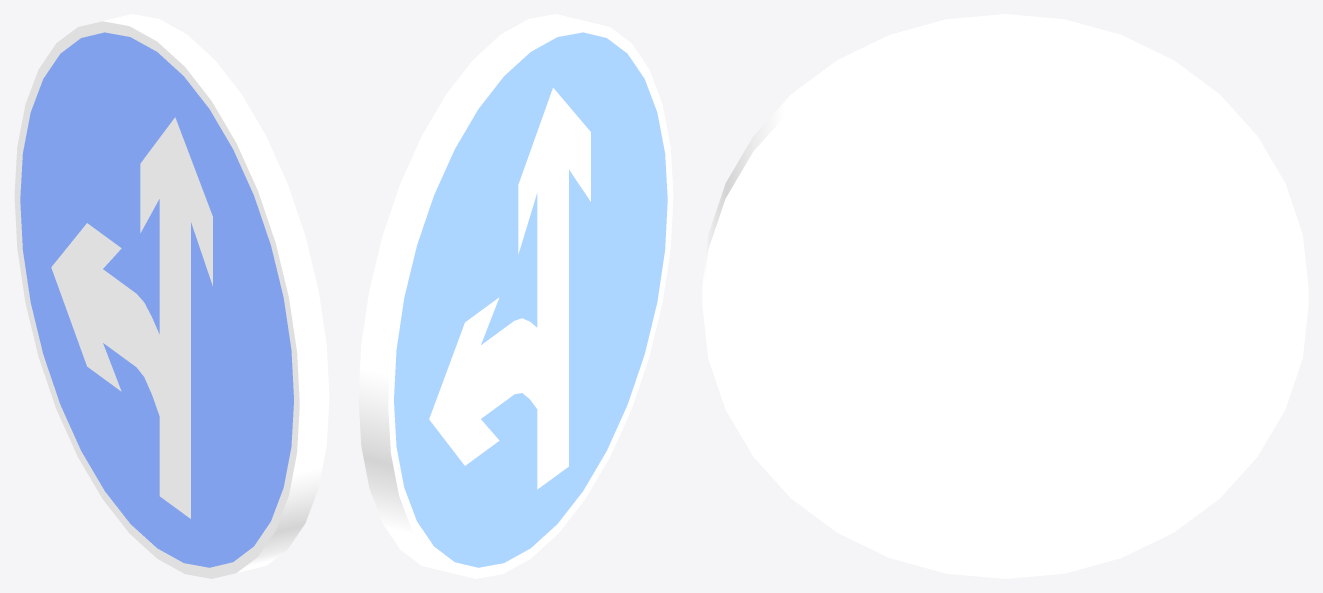
Rendered from Straight_And_Turn_Left.glb.
3 renders of one model, left to right at view 1: azimuth 30°, elevation 25°; view 2: azimuth 150°, elevation 25°; view 3: azimuth 270°, elevation 25°, orthographic. The views are drawn at different scales.
Visible parts, largest first — view 1: Straight_And_Turn_Left; view 2: Straight_And_Turn_Left; view 3: Straight_And_Turn_Left.
Part boxes in pixels (x1,y1,x2,y2): Straight_And_Turn_Left: [14, 14, 329, 578]; Straight_And_Turn_Left: [358, 14, 673, 578]; Straight_And_Turn_Left: [702, 14, 1308, 578].
Size of the model in its own units: 0.0643 by 1 by 1.
